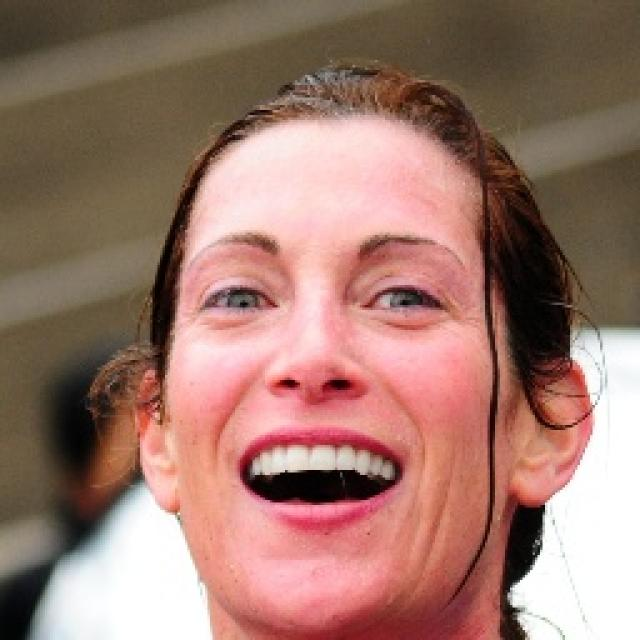earlobe: (510, 356, 592, 509), (133, 366, 181, 516)
